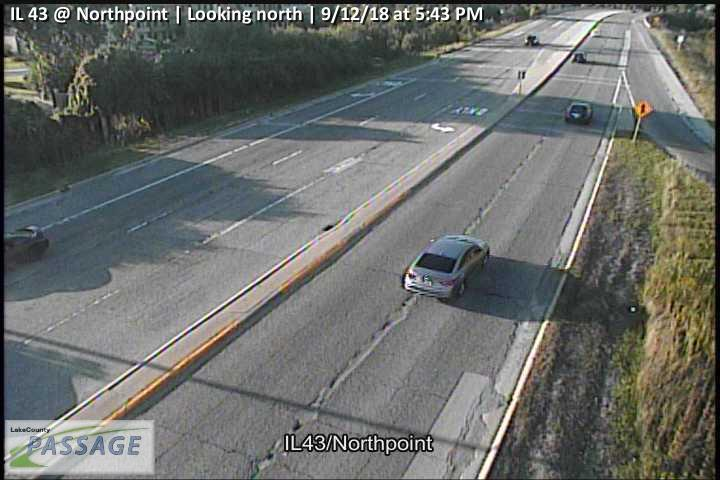Sedan: (401, 235, 490, 301), (1, 225, 49, 270), (564, 102, 593, 124)
